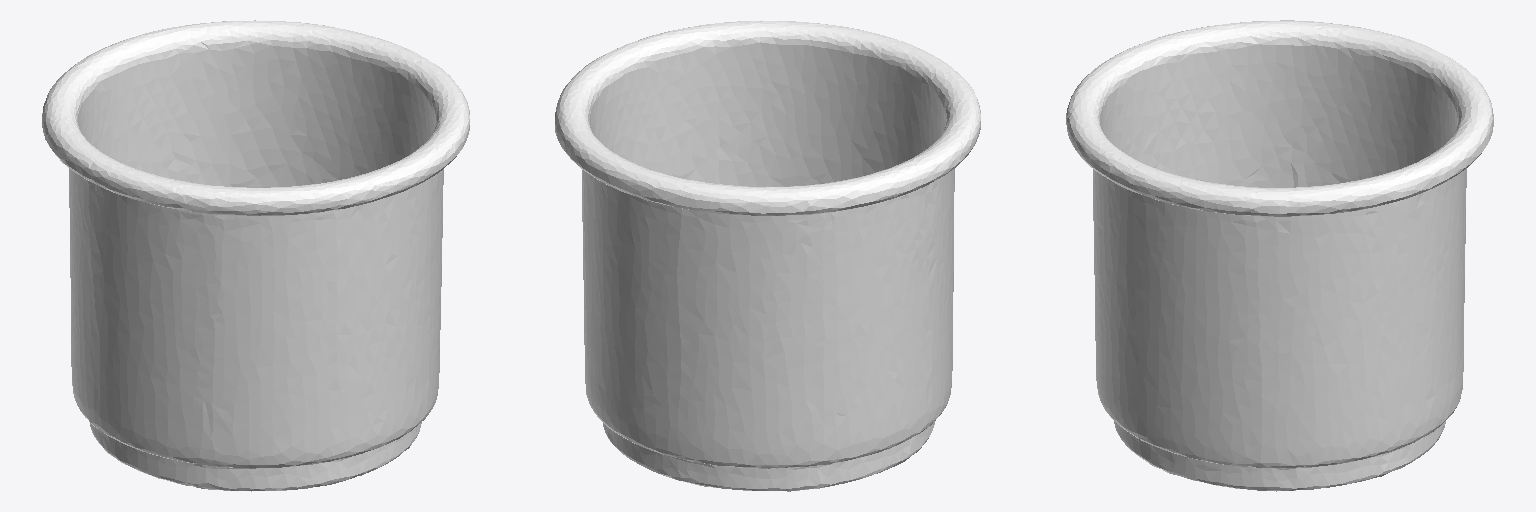
robot.urdf — 058_golf_ball:
<robot name="058_golf_ball">
	<link name="_name">
		<visual>
			<origin xyz="0.06528858552747081 0.3041729713329846 -0.2092653007258482" rpy="0 0 0" />
			<geometry>
				<mesh filename="058_golf_ball/google_16k/textured.obj" scale="10 10 10" />
			</geometry>
			<material name="texture">
				<color rgba="1.0 1.0 1.0 1.0" />
			</material>
		</visual>
		<collision>
			<geometry>
				<mesh filename="058_golf_ball/google_16k/textured_vhacd.obj" scale="10 10 10" />
			</geometry>
		<origin xyz="0.06528858552747081 0.3041729713329846 -0.2092653007258482" rpy="0 0 0" /></collision>
		<inertial>
			<mass value="1.0" />
			<inertia ixx="1.0" ixy="0.0" ixz="0.0" iyy="1.0" iyz="0.0" izz="1.0" />
		</inertial>
	</link>
</robot>

--- Render facts (derived) ---
The picture shows the robot from 3 angles, left to right: view 1: azimuth 30°, elevation 25°; view 2: azimuth 150°, elevation 25°; view 3: azimuth 270°, elevation 25°; orthographic projection.
Robot: 058_golf_ball — 1 links, 0 joints (none); root link _name; default pose: every joint at zero.
Links seen in each view (by area): view 1: _name; view 2: _name; view 3: _name.
Boxes of the visible links, x1,y1,x2,y2 form: _name: (42, 20, 469, 491); _name: (555, 20, 980, 491); _name: (1066, 20, 1493, 491).
Size in the robot's own frame: 0.915 by 0.9162 by 0.7506 metres.
1 mesh visuals loaded from 1 distinct referenced files (1 OBJ).